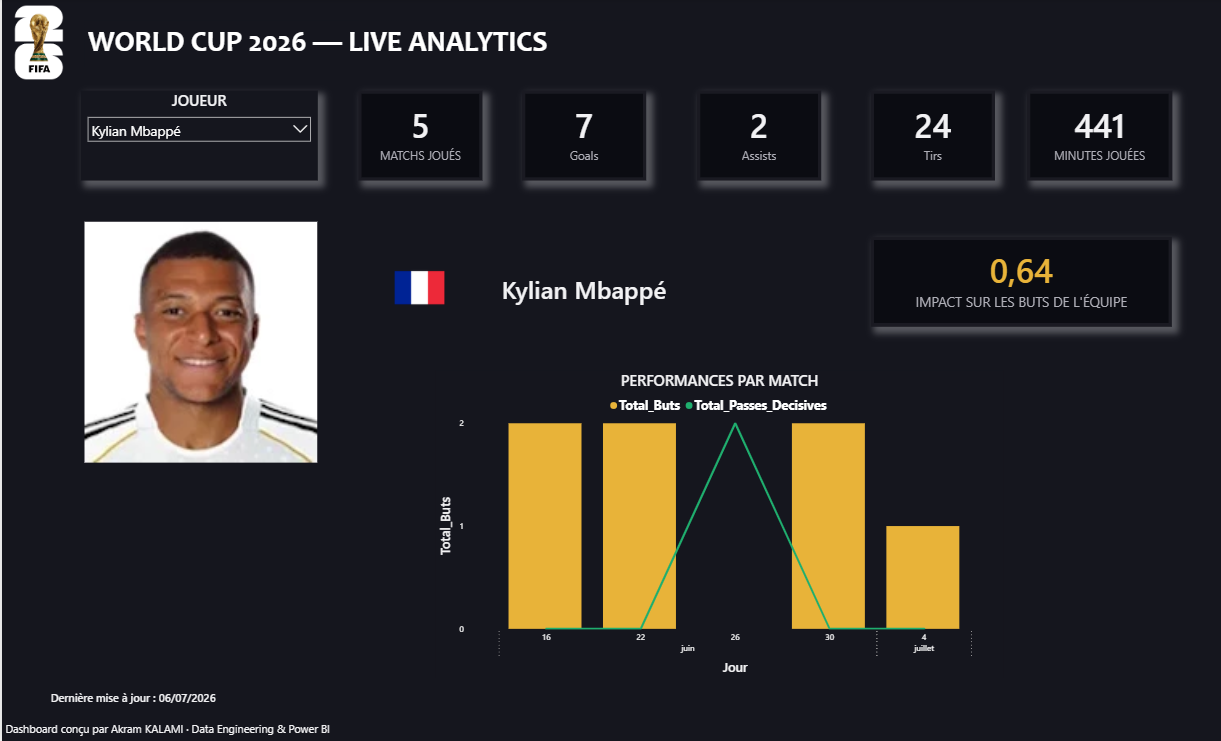

The page's visual inventory and layout, read from the dashboard file:
{"tool":"powerbi","page":{"name":"Fiche Joueur","canvas":[1800,1100],"ordinal":1},"visuals":[{"type":"image","box":[0,0,108.6,131.4],"z":0},{"type":"textbox","box":[121.4,32.9,805.7,68.6],"z":1000},{"type":"slicer","title":"JOUEUR ","fields":{"Values":["Dim_Joueurs.Nom"]},"box":[115.8,137,349.3,133.1],"z":2000},{"type":"cardVisual","fields":{"Data":["Dim_Calendrier.Derniere_MAJ"]},"box":[0,989.9,387.9,71.4],"z":3000},{"type":"textbox","box":[0,1061.3,681.2,38.6],"z":4000},{"type":"image","box":[121.6,330,343.5,355.1],"z":5000},{"type":"cardVisual","fields":{"Data":["Min(Dim_Joueurs.Nom)"]},"box":[507.5,337.7,349.3,150.5],"z":6000},{"type":"image","box":[550,467,264.4,166],"z":7000},{"type":"cardVisual","title":"Total Gaols","fields":{"Data":["Fact_Performances.Total_Buts"]},"box":[766.1,137,183.3,133.1],"z":8000},{"type":"cardVisual","title":"Total Gaols","fields":{"Data":["Fact_Performances.Total_Passes_Decisives"]},"box":[1024.7,137,183.3,133.1],"z":9000},{"type":"cardVisual","title":"Total Gaols","fields":{"Data":["Fact_Performances.Total_Tirs"]},"box":[1281.3,137,183.3,133.1],"z":10000},{"type":"cardVisual","title":"Total Gaols","fields":{"Data":["Fact_Performances.Nb_Matchs"]},"box":[524.9,137,183.3,133.1],"z":11000},{"type":"cardVisual","title":"Total Gaols","fields":{"Data":["Fact_Performances.Total_Minutes"]},"box":[1541.8,137,183.3,133.1],"z":12000},{"type":"cardVisual","title":"Total Gaols","fields":{"Data":["Fact_Performances.Goal_Involvement_%"]},"box":[1152,330,443.8,133.1],"z":13000},{"type":"donutChart","fields":{"Category":["Dim_Calendrier.Date.Variation.Hiérarchie de dates.Mois","Dim_Calendrier.Date.Variation.Hiérarchie de dates.Jour"],"Y":["Fact_Performances.Total_Passes_Decisives"]},"box":[600.1,661.9,443.8,399.4],"z":13001},{"type":"columnChart","fields":{"Category":["Dim_Calendrier.Date.Variation.Hiérarchie de dates.Mois","Dim_Calendrier.Date.Variation.Hiérarchie de dates.Jour"],"Y":["Fact_Performances.Total_Buts"]},"box":[1242.7,661.9,443.8,399.4],"z":13002}]}

Visuals, with their boxes in screenshot pixels (x1, y1, x2, y2), scaled from the page's 1800x1100 canvas onto the 1221x741 screenshot:
image: (x1=0, y1=0, x2=74, y2=89)
textbox: (x1=82, y1=22, x2=629, y2=68)
"JOUEUR " slicer: (x1=79, y1=92, x2=315, y2=182)
cardVisual - Dim_Calendrier.Derniere_MAJ: (x1=0, y1=667, x2=263, y2=715)
textbox: (x1=0, y1=715, x2=462, y2=740)
image: (x1=82, y1=222, x2=315, y2=462)
cardVisual - Min(Dim_Joueurs.Nom): (x1=344, y1=227, x2=581, y2=329)
image: (x1=373, y1=315, x2=552, y2=426)
"Total Gaols" cardVisual: (x1=520, y1=92, x2=644, y2=182)
"Total Gaols" cardVisual: (x1=695, y1=92, x2=819, y2=182)
"Total Gaols" cardVisual: (x1=869, y1=92, x2=993, y2=182)
"Total Gaols" cardVisual: (x1=356, y1=92, x2=480, y2=182)
"Total Gaols" cardVisual: (x1=1046, y1=92, x2=1170, y2=182)
"Total Gaols" cardVisual: (x1=781, y1=222, x2=1082, y2=312)
donutChart - Dim_Calendrier.Date.Variation.Hiérarchie de dates.Mois x Dim_Calendrier.Date.Variation.Hiérarchie de dates.Jour: (x1=407, y1=446, x2=708, y2=715)
columnChart - Dim_Calendrier.Date.Variation.Hiérarchie de dates.Mois x Dim_Calendrier.Date.Variation.Hiérarchie de dates.Jour: (x1=843, y1=446, x2=1144, y2=715)
